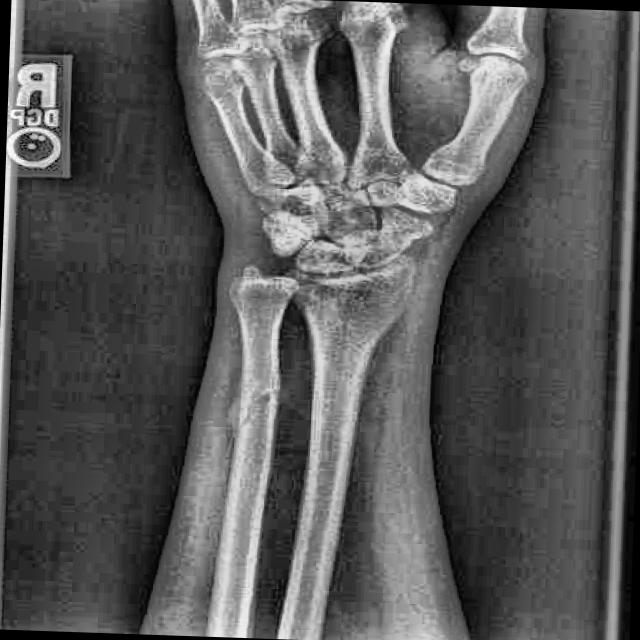wrist positive: (235, 195, 434, 316), (216, 359, 313, 455)
